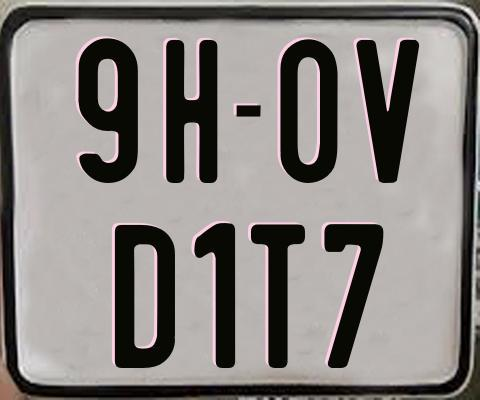0: (280, 38, 344, 183)
1: (192, 223, 237, 371)
7: (324, 221, 388, 365)
9: (78, 38, 142, 188)
D: (115, 223, 181, 368)
H: (164, 40, 218, 185)
T: (248, 221, 305, 370)
V: (356, 38, 423, 184)
